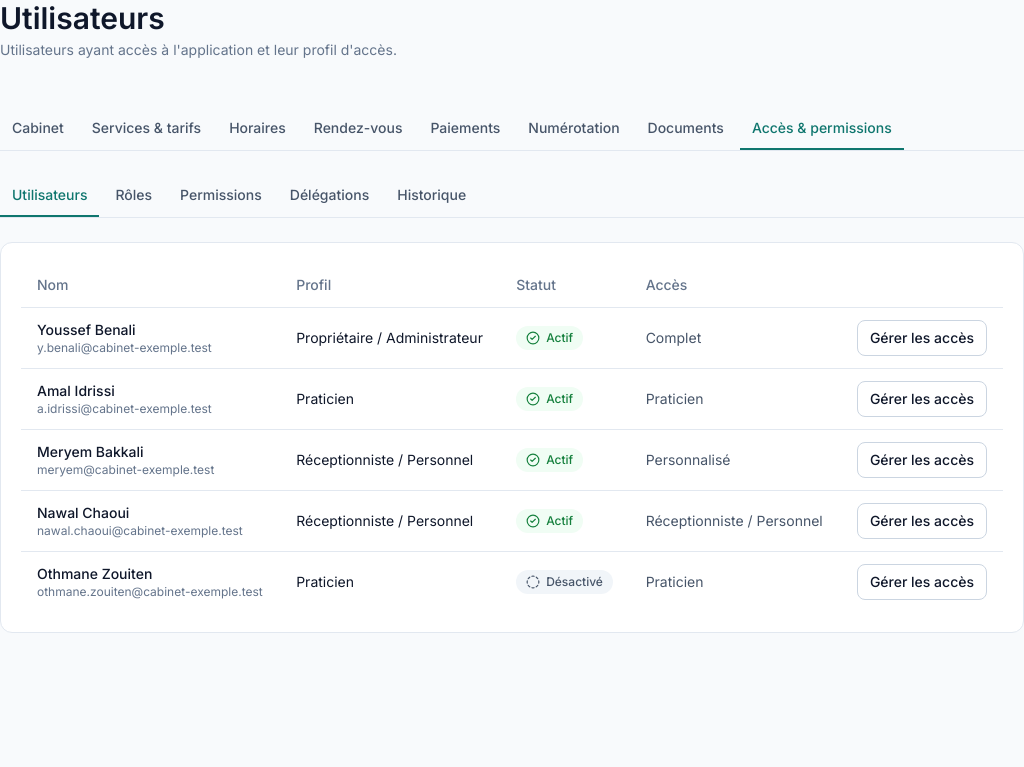
Scenario: UsersPage › Gérer les accès opens a drawer pre-filled with the user's own current role and permissions
What coordinates should you click on to do the following:
click the button "Gérer les accès" in the row of "Meryem Bakkali"
I would click on:
 (922, 460)
Its box is [857, 442, 987, 478].
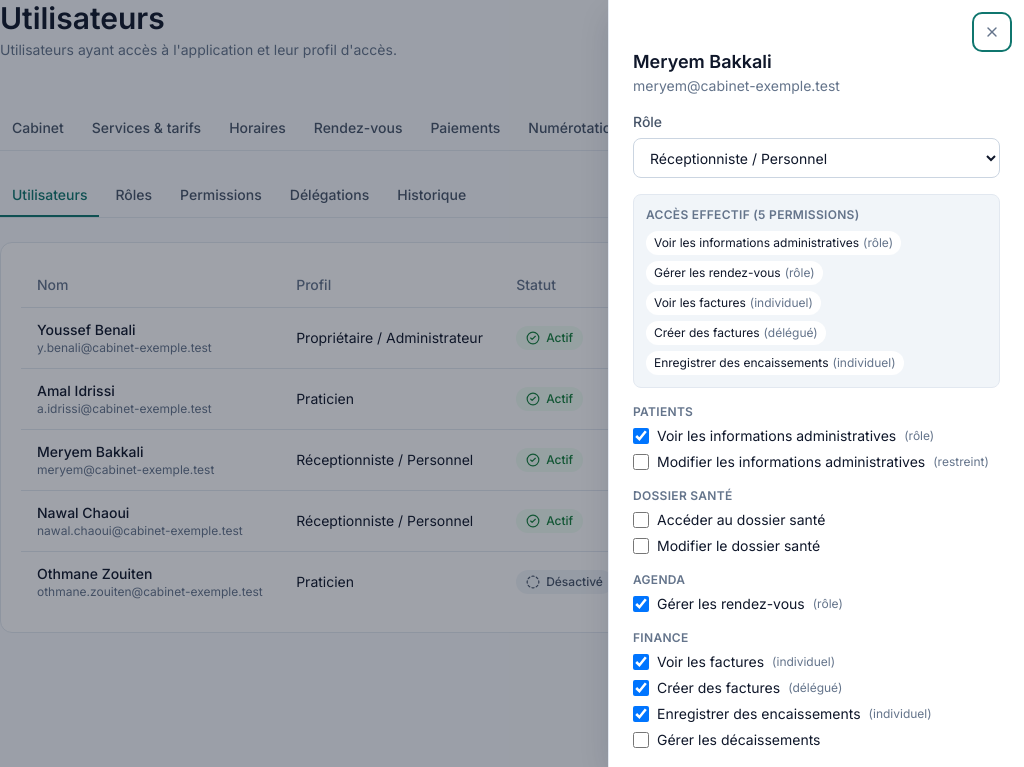
Result: the heading "Meryem Bakkali" is shown at [633, 51, 772, 72]
Result: the checkbox labelled "Voir les factures" is checked at [633, 654, 649, 670]
Result: the checkbox labelled "Modifier les informations administratives" is not checked at [633, 454, 649, 470]
